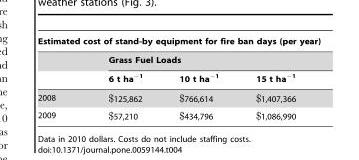table: (37, 36, 320, 120)
table column: (236, 36, 320, 120), (81, 36, 160, 120), (160, 36, 236, 120), (37, 36, 81, 120)
table column header: (37, 36, 320, 87)
table row: (37, 68, 320, 87), (37, 87, 320, 106), (37, 50, 320, 68), (37, 36, 320, 50), (37, 106, 320, 120)
table spanning cell: (81, 50, 320, 68), (37, 36, 320, 50)
